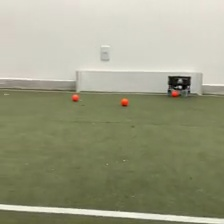ball: (120, 97, 129, 106), (71, 93, 79, 102), (170, 88, 178, 96)
goal: (74, 68, 206, 96)
robot: (166, 73, 192, 98)
